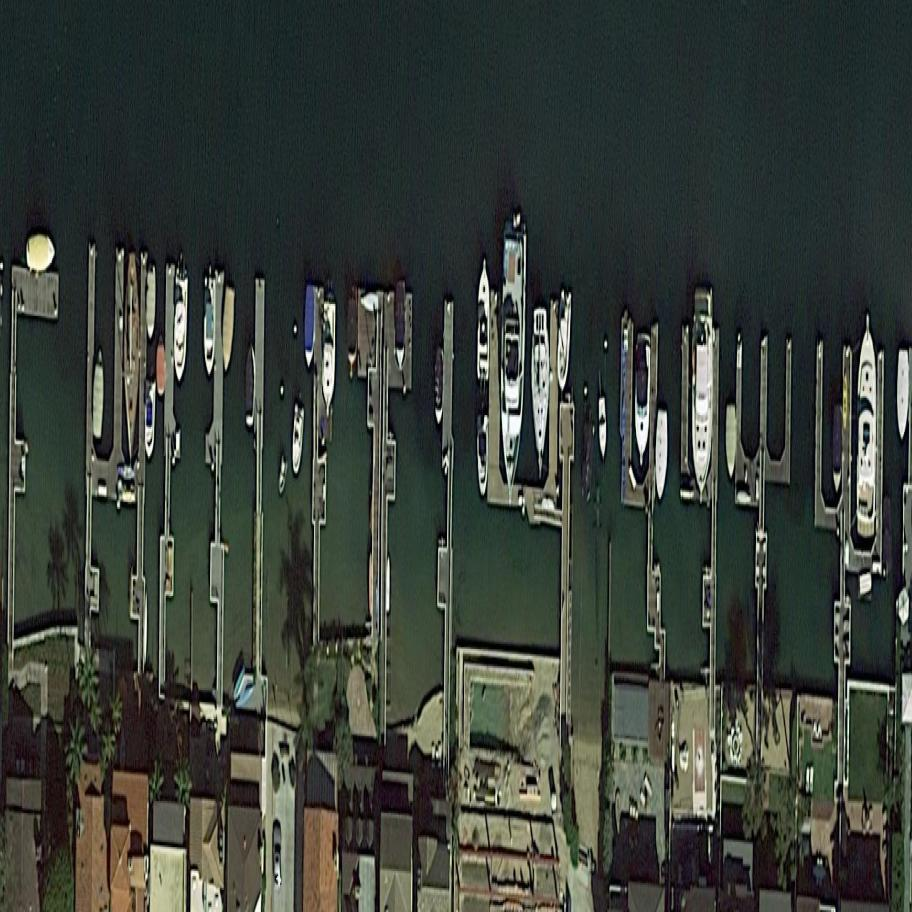ship: (500, 219, 527, 487), (856, 311, 879, 537), (691, 285, 715, 497), (122, 251, 141, 470), (530, 307, 551, 487), (633, 331, 652, 470), (579, 408, 600, 512), (173, 265, 189, 386), (556, 287, 573, 400), (477, 259, 491, 383), (321, 302, 337, 410), (220, 285, 237, 377), (654, 406, 669, 506), (92, 348, 107, 441), (289, 400, 306, 482), (203, 275, 216, 379), (25, 232, 57, 273), (896, 348, 909, 444), (832, 403, 844, 499), (304, 282, 316, 371), (347, 292, 358, 384), (395, 278, 406, 367), (725, 403, 737, 482), (477, 415, 488, 500), (245, 343, 256, 427), (145, 379, 156, 461), (434, 345, 444, 429), (881, 495, 891, 577), (276, 447, 291, 500), (597, 393, 608, 463), (147, 263, 156, 342), (156, 333, 166, 396), (360, 289, 380, 313)
small-vehicle: (273, 825, 283, 895)
